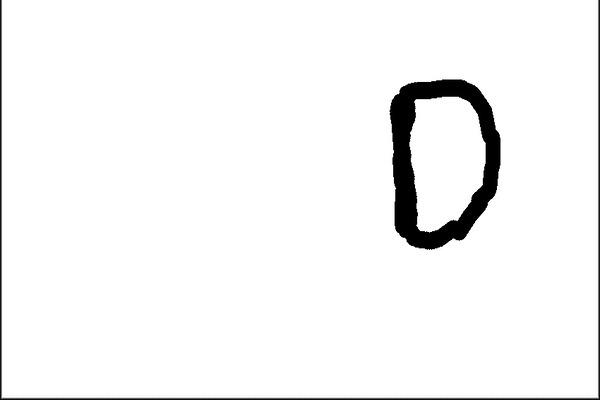D: (382, 71, 505, 250)
